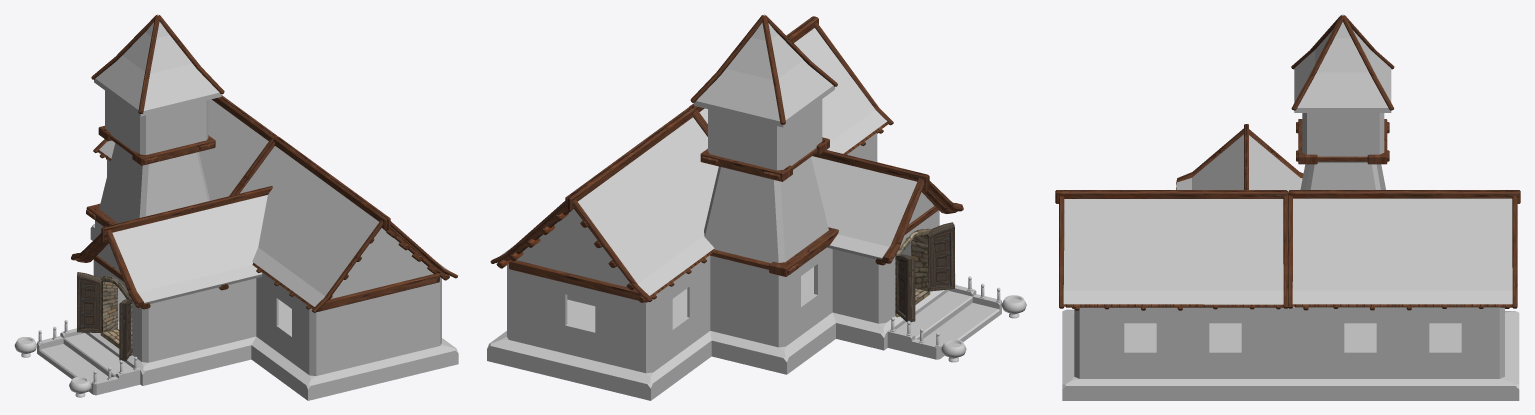
File: Ratusha.fbx
3 views of the same model, side by side, from view 1: azimuth 30°, elevation 25°; view 2: azimuth 150°, elevation 25°; view 3: azimuth 270°, elevation 25° (orthographic). The views are drawn at different scales.
Parts seen in each view (by area): view 1: RatushaRoof, House2S1S.001; view 2: RatushaRoof, House2S1S.001; view 3: RatushaRoof, House2S1S.001.
Part boxes in pixels (x1,y1,x2,y2): RatushaRoof: (71, 14, 457, 312); House2S1S.001: (14, 159, 458, 400); RatushaRoof: (490, 14, 963, 302); House2S1S.001: (487, 133, 1026, 400); RatushaRoof: (1055, 14, 1520, 310); House2S1S.001: (1062, 306, 1519, 400).
Bounding box in the file's own units: 2761 × 2355 × 3276.
